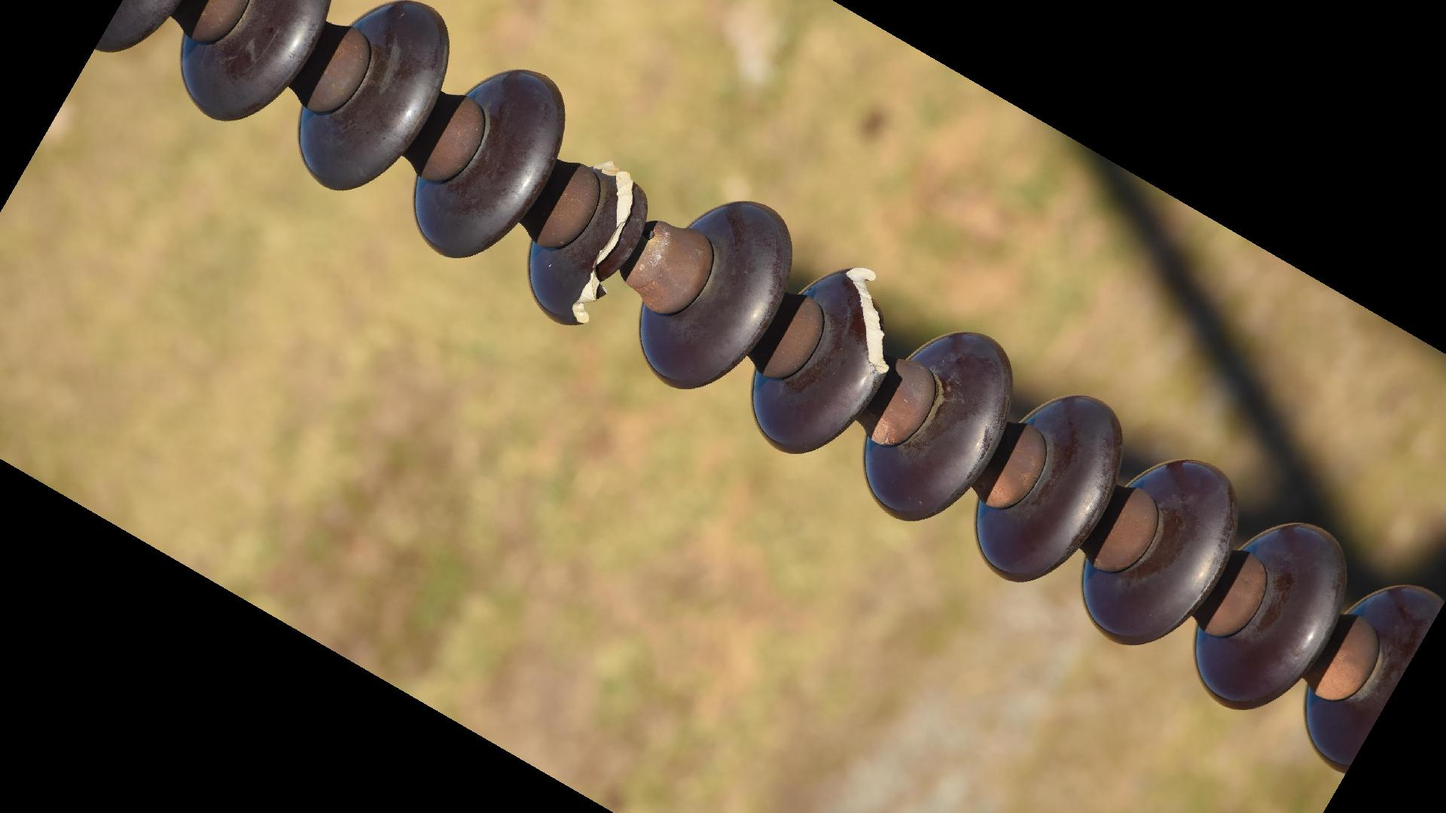insulator: (90, 1, 1441, 777)
insulator_breakage: (560, 155, 640, 332), (838, 259, 901, 396)
